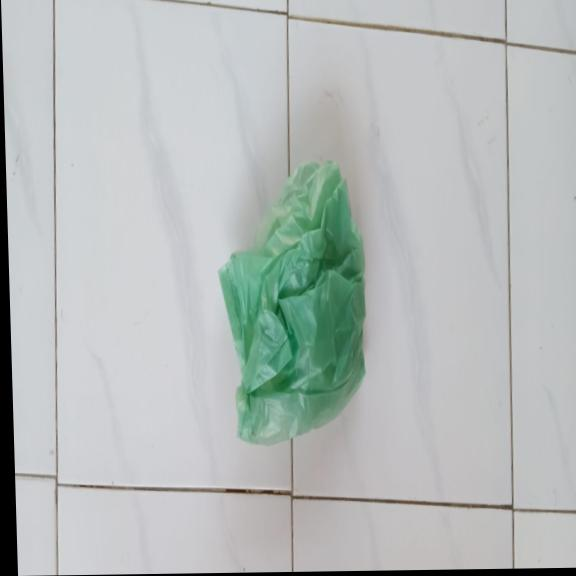Plastik: (214, 159, 370, 445)
